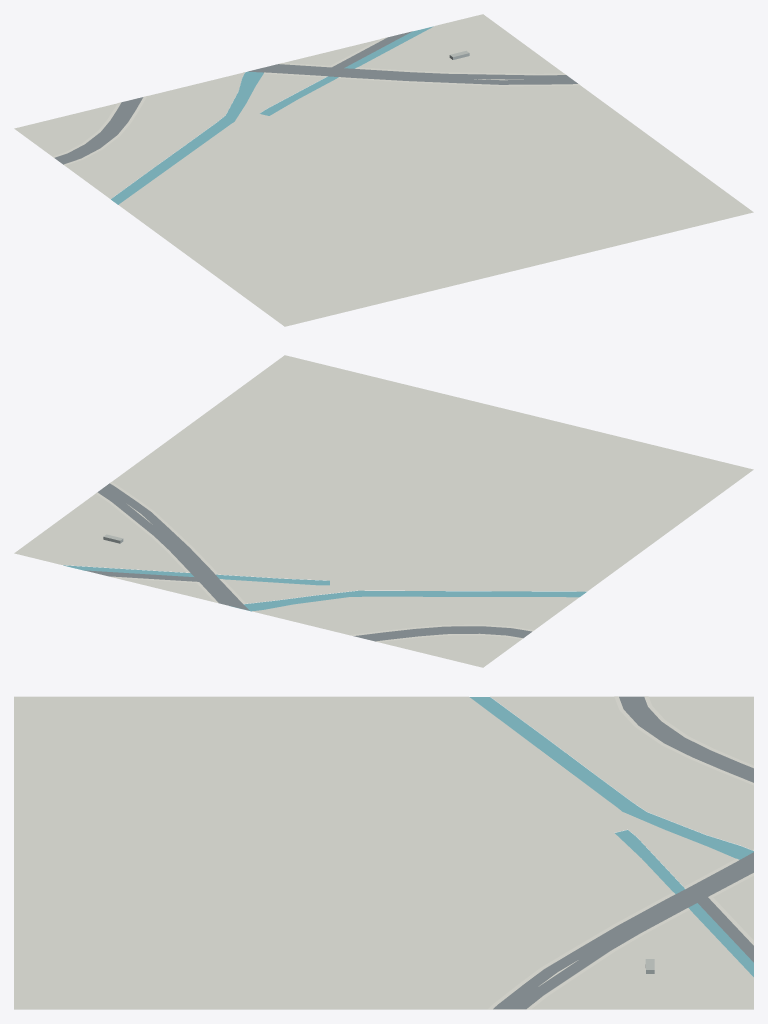
The picture shows the model from 3 angles, top to bottom: view 1: azimuth 30°, elevation 25°; view 2: azimuth 150°, elevation 25°; view 3: azimuth 270°, elevation 25°; orthographic projection. The views are drawn at different scales.
Visible parts, largest first — view 1: city; view 2: city; view 3: city.
Part boxes in pixels (x1=…): city: x1=14, y1=14, x2=753, y2=326; city: x1=14, y1=355, x2=753, y2=667; city: x1=14, y1=696, x2=753, y2=1009.
Size of the model in its own units: 500 by 3.18 by 500.
